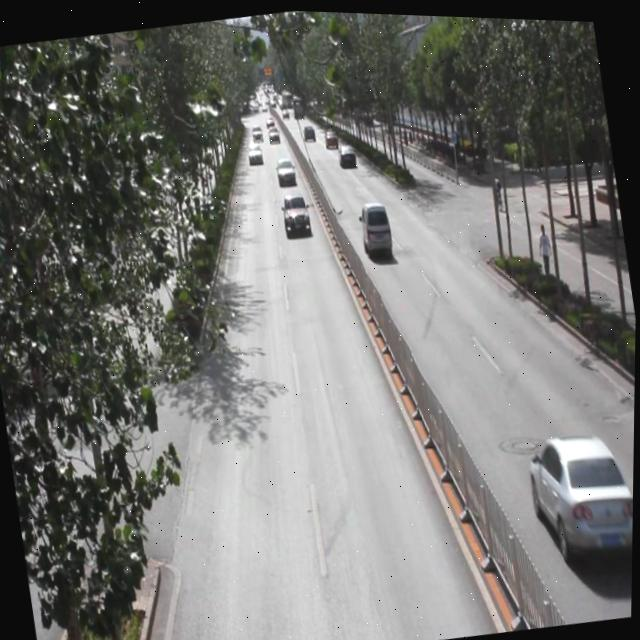car: (522, 417, 635, 563), (280, 189, 312, 238), (274, 152, 297, 185), (336, 139, 357, 165), (246, 138, 265, 165), (322, 121, 339, 147), (302, 121, 318, 143), (249, 120, 265, 142), (266, 122, 281, 141)
truck: (357, 195, 396, 259)
